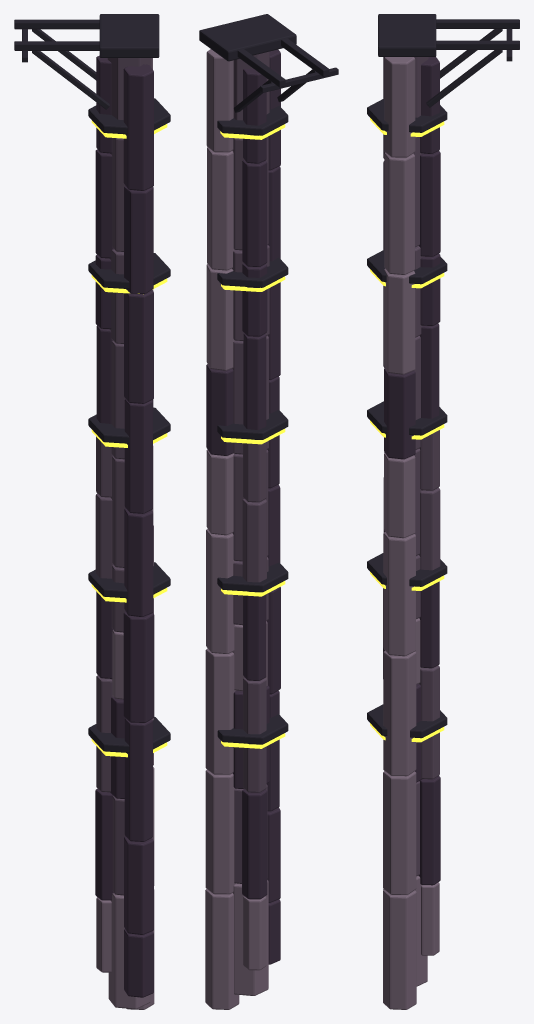
File: EF_T10_PlatformPier.fbx
The picture shows the model from 3 angles, left to right: view 1: azimuth 90°, elevation 25°; view 2: azimuth 210°, elevation 25°; view 3: azimuth 270°, elevation 25°; orthographic projection. The views are drawn at different scales.
Parts seen in each view (by area): view 1: EF_T10_PlatformPier; view 2: EF_T10_PlatformPier; view 3: EF_T10_PlatformPier.
Part boxes in pixels (x1=…): EF_T10_PlatformPier: x1=14, y1=14, x2=170, y2=1009; EF_T10_PlatformPier: x1=199, y1=14, x2=338, y2=1009; EF_T10_PlatformPier: x1=367, y1=14, x2=519, y2=1009.
Bounding box in the file's own units: 2.1 × 25.46 × 3.66.
